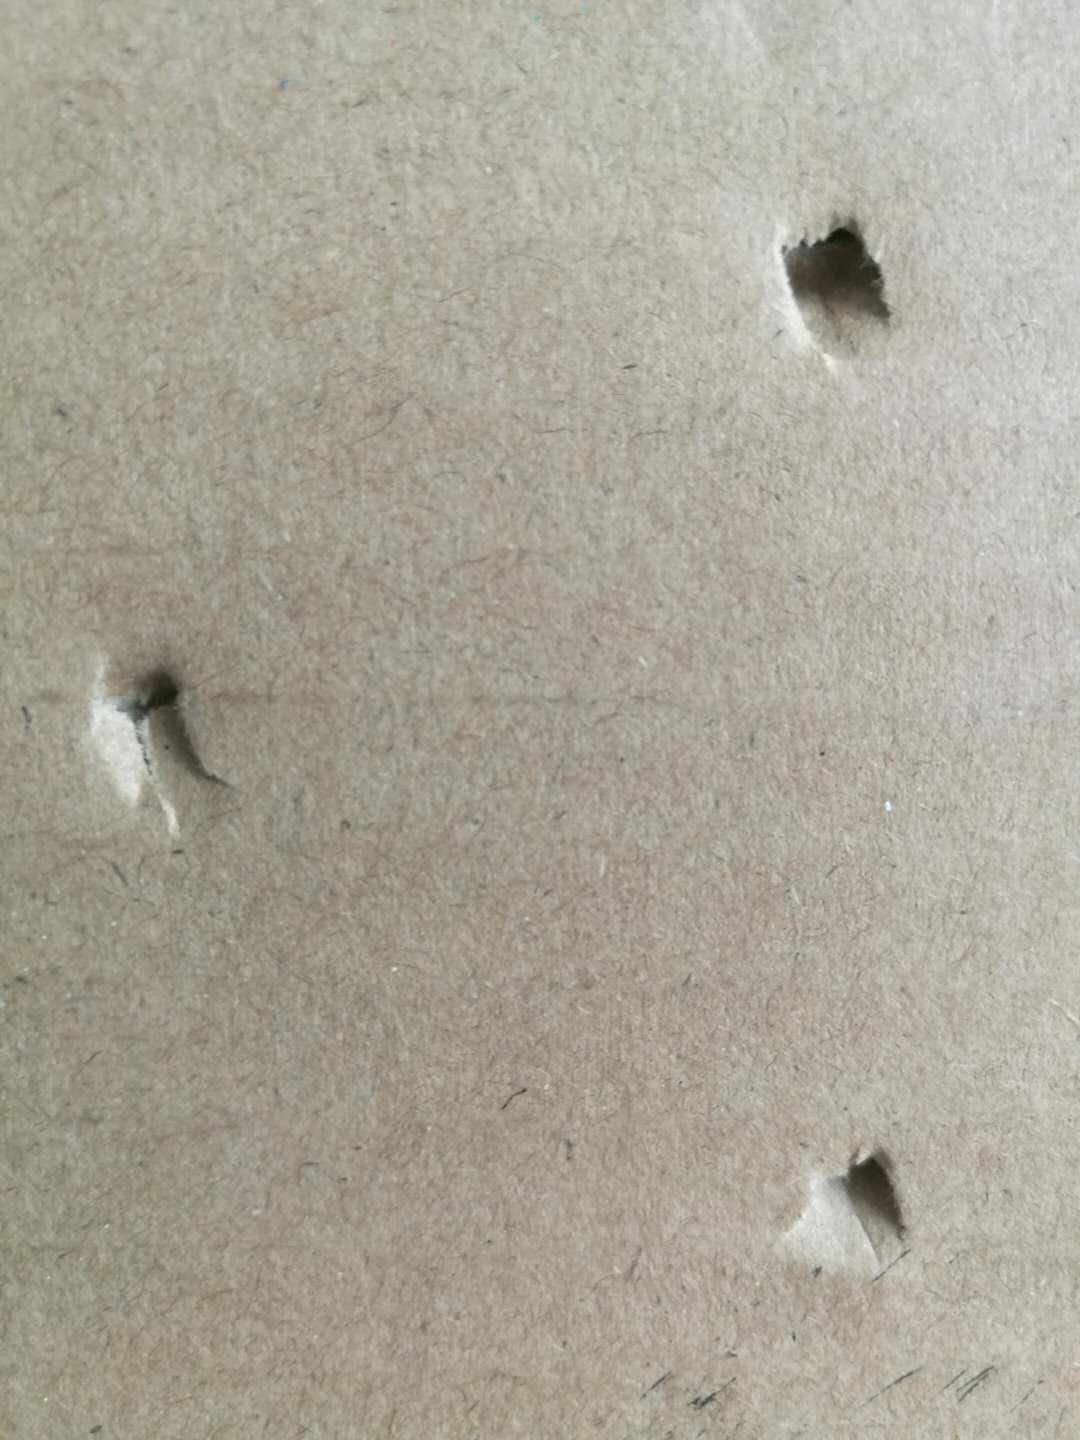defect: (51, 628, 275, 864), (740, 181, 951, 416), (760, 1125, 935, 1299)
